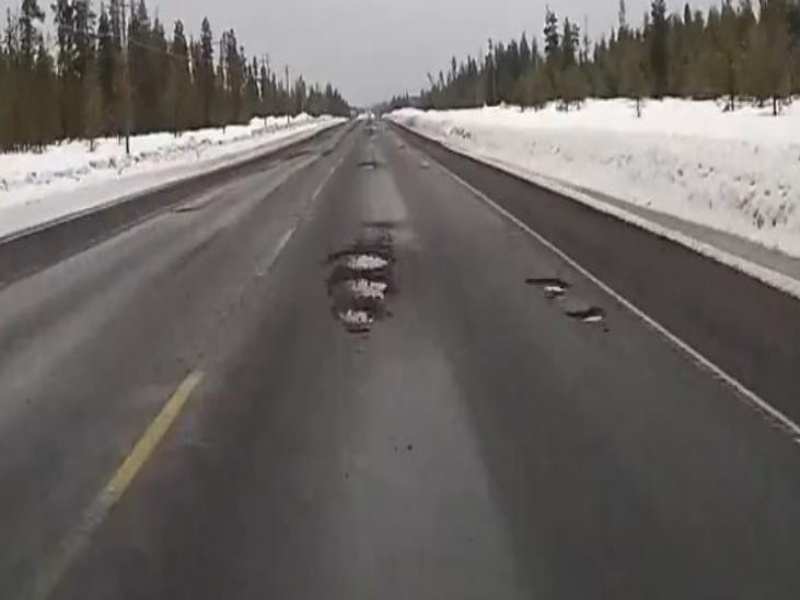pothole: (325, 247, 396, 270), (322, 276, 394, 297), (330, 302, 377, 330), (523, 275, 574, 297), (562, 306, 606, 326)
